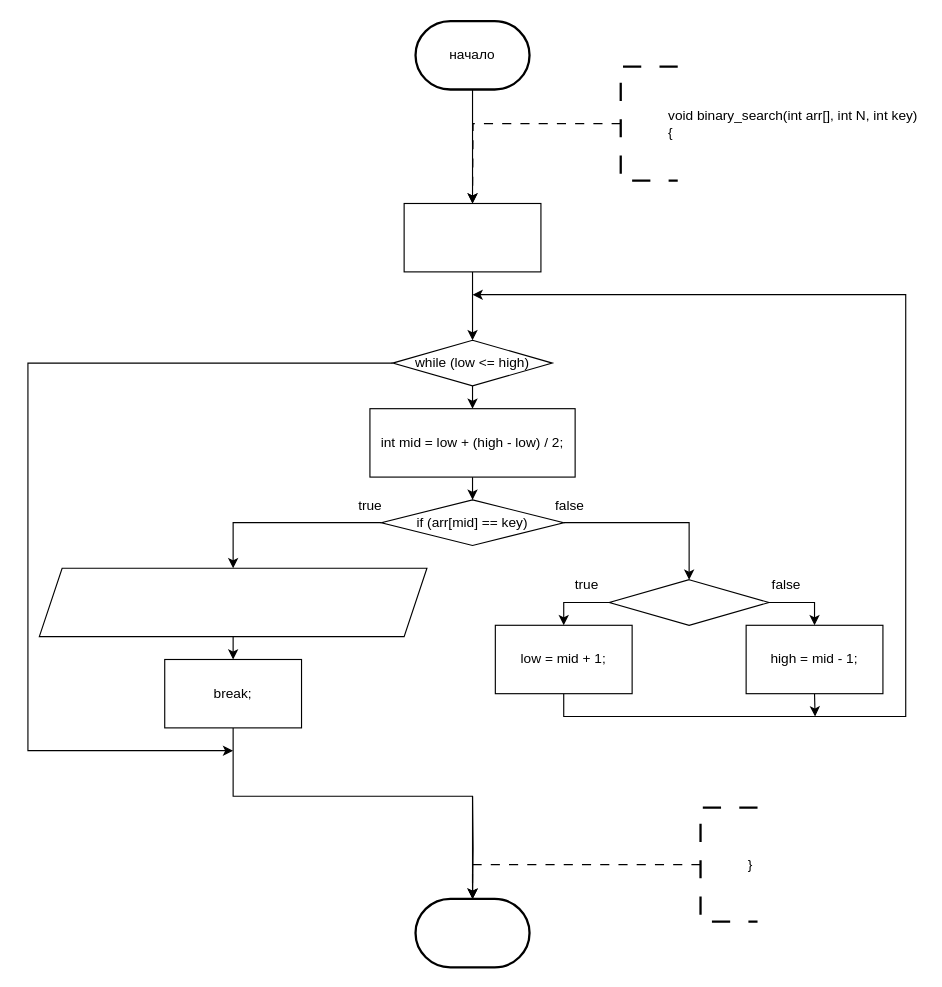
The diagram is 942 pixels wide and 987 high, and some of its shapes have lost their labels. The shapes that lost their labels are listed below. From the top down, each one's centre as x and y in pixels, then its label:
(472,237): int low = 0; int high = N - 1;
(232,602): cout << "Ключ найден на позиции: " << mid + 1 << endl;
(688,602): if (arr[mid] < key)
(472,932): конец
